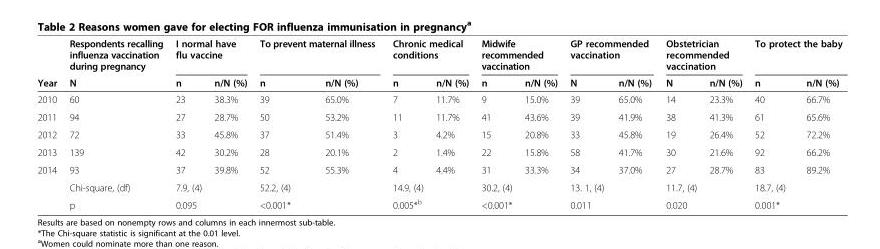table: (36, 37, 841, 210)
table column: (62, 37, 168, 210), (307, 37, 383, 210), (252, 37, 307, 210), (610, 37, 658, 210), (747, 37, 795, 210), (563, 37, 610, 210), (383, 37, 429, 210), (517, 37, 563, 210), (795, 37, 841, 210), (207, 37, 252, 210), (429, 37, 474, 210), (702, 37, 747, 210), (658, 37, 702, 210), (474, 37, 517, 210), (168, 37, 207, 210), (36, 37, 62, 210)
table column header: (36, 37, 841, 90)
table row: (36, 37, 841, 73), (36, 107, 841, 125), (36, 125, 841, 143), (36, 160, 841, 178), (36, 73, 841, 90), (36, 90, 841, 107), (36, 143, 841, 160), (36, 178, 841, 195), (36, 195, 841, 210)
table spanning cell: (62, 37, 168, 90), (252, 37, 383, 73), (563, 37, 658, 73), (747, 37, 841, 73), (383, 37, 474, 73), (474, 37, 563, 73), (658, 37, 747, 73), (168, 37, 252, 73), (36, 37, 62, 90), (36, 160, 62, 210)
